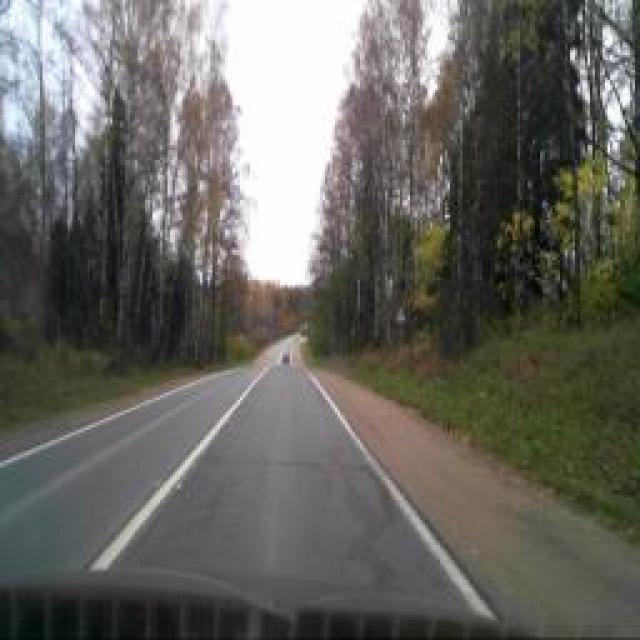sign: (396, 304, 406, 324)
